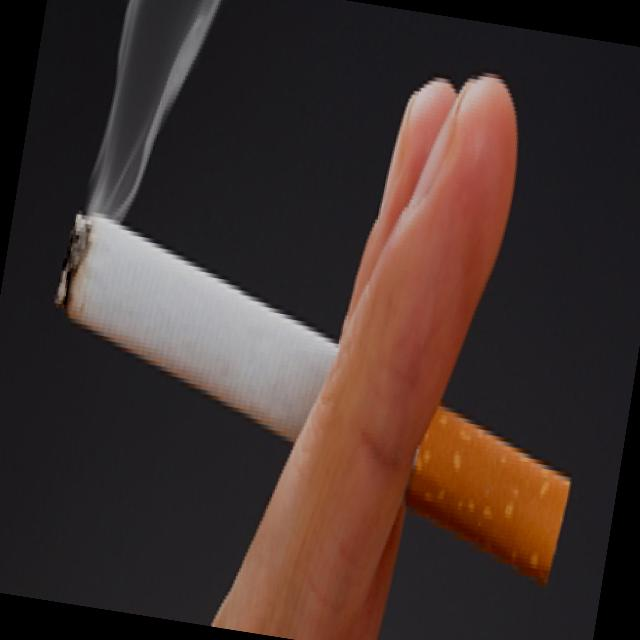smoke: (14, 202, 612, 620)
